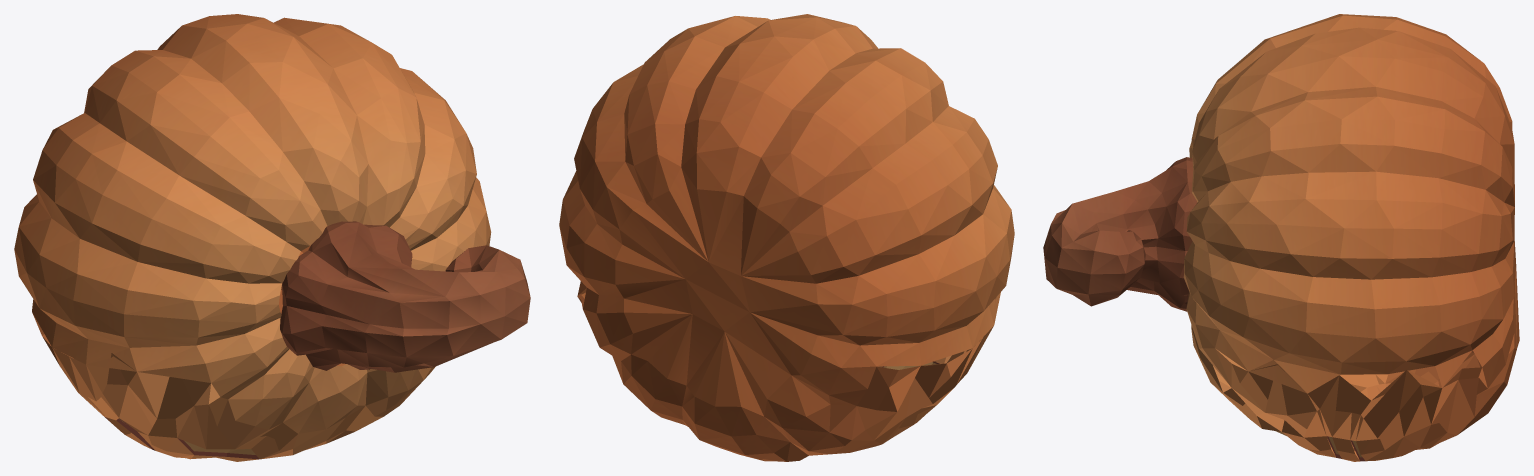
Rendered from EVHalloween_Decor_JackOLanternCat_Lit5_Held.fbx.
3 views of the same model, side by side, from view 1: azimuth 30°, elevation 25°; view 2: azimuth 150°, elevation 25°; view 3: azimuth 270°, elevation 25° (orthographic). The views are drawn at different scales.
Parts seen in each view (by area): view 1: EVHalloween_Decor_PumpkinOrange; view 2: EVHalloween_Decor_PumpkinOrange; view 3: EVHalloween_Decor_PumpkinOrange.
Part boxes in pixels (bbox=[...]): EVHalloween_Decor_PumpkinOrange: bbox=[14, 14, 530, 461]; EVHalloween_Decor_PumpkinOrange: bbox=[559, 14, 1014, 461]; EVHalloween_Decor_PumpkinOrange: bbox=[1043, 14, 1519, 461].
Size of the model in its own units: 33.2 by 31.38 by 34.04.
